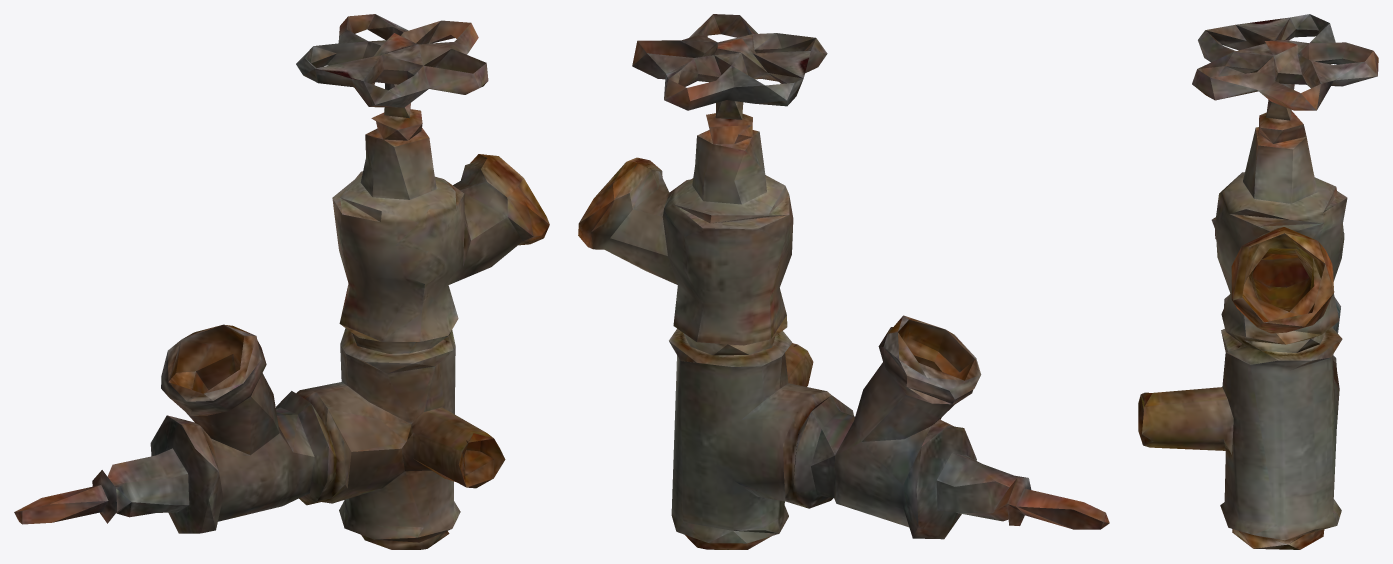
File: pipe_valve_scan.glb
The picture shows the model from 3 angles, left to right: view 1: azimuth 30°, elevation 25°; view 2: azimuth 150°, elevation 25°; view 3: azimuth 270°, elevation 25°; orthographic projection.
Parts seen in each view (by area): view 1: pipe_valve_scan; view 2: pipe_valve_scan; view 3: pipe_valve_scan.
Part boxes in pixels (left/top/right/bottom): pipe_valve_scan: left=14, top=14, right=549, bottom=549; pipe_valve_scan: left=578, top=14, right=1109, bottom=549; pipe_valve_scan: left=1138, top=14, right=1378, bottom=549.
Size of what is drawn, in the model's own units: 0.269 by 0.2446 by 0.1086.
Materials: 1 (1 with a texture image).
